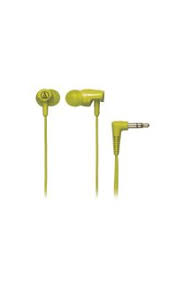earphone: (60, 82, 108, 167), (21, 78, 68, 161)
